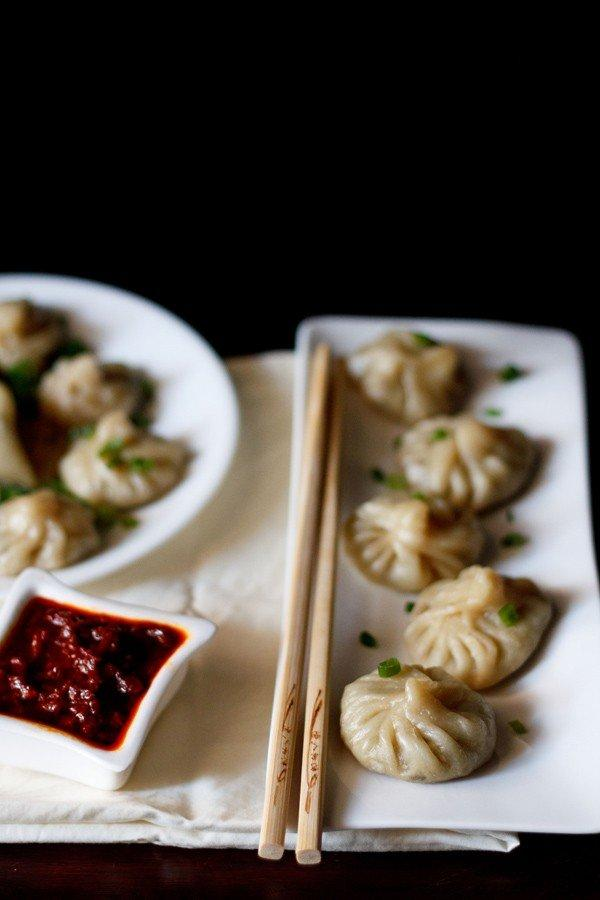momos: (341, 664, 497, 782), (404, 566, 552, 689), (345, 490, 485, 592), (399, 415, 536, 511), (60, 410, 188, 507), (348, 330, 466, 423), (0, 489, 100, 574), (397, 415, 482, 508), (39, 353, 146, 425)
